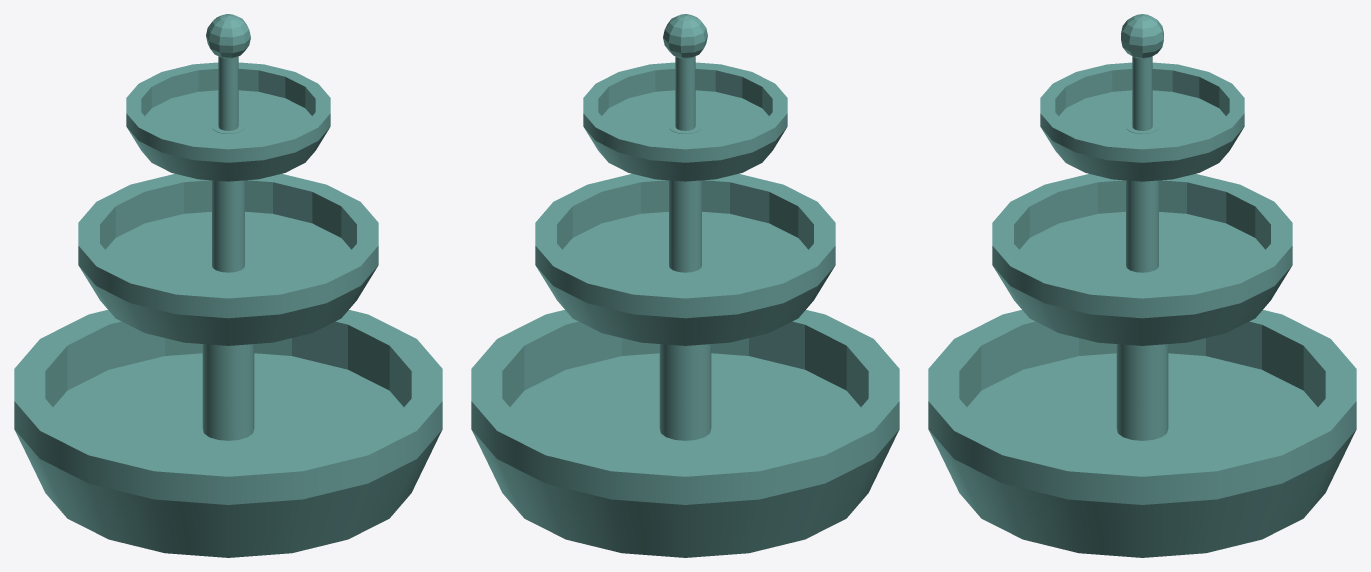
File: Fontein.fbx
3 views of the same model, side by side, from view 1: azimuth 30°, elevation 25°; view 2: azimuth 150°, elevation 25°; view 3: azimuth 270°, elevation 25° (orthographic).
Parts seen in each view (by area): view 1: Fontein1; view 2: Fontein1; view 3: Fontein1.
Boxes of the visible parts, x1,y1,x2,y2 form: Fontein1: (14,14,442,557); Fontein1: (471,14,899,557); Fontein1: (928,14,1356,557).
Size of the model in its own units: 5.35 by 6.28 by 5.26.
